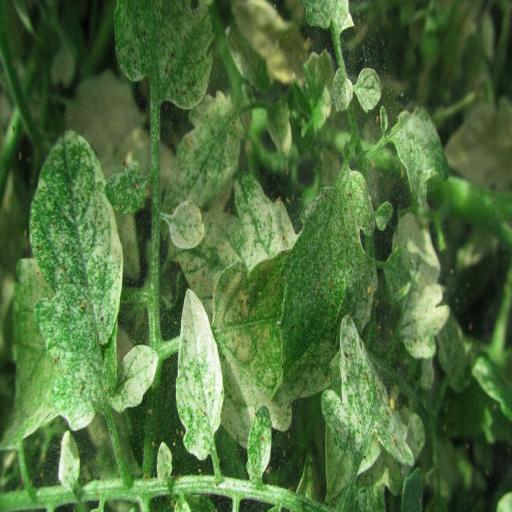Spider Mites: (28, 128, 124, 436), (277, 161, 377, 407), (174, 282, 224, 460)
